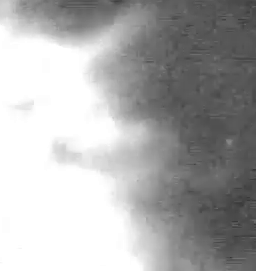Target: (226, 139, 232, 144)
